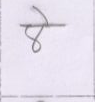e_matra: (32, 5, 52, 23)
